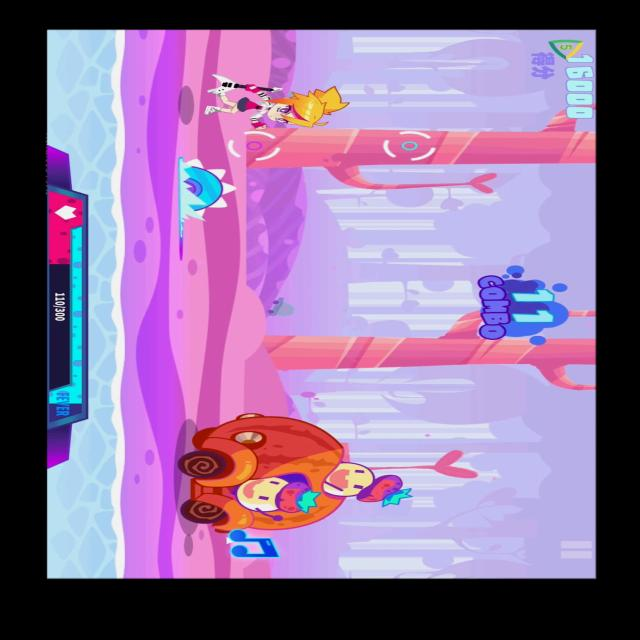Music note: (220, 530, 282, 564)
cheboss: (175, 411, 413, 532)
ci: (170, 155, 242, 232)
